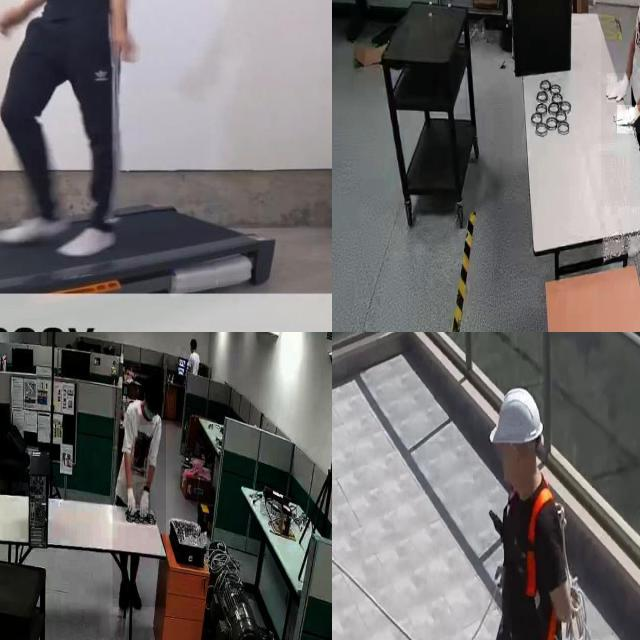Harness: (332, 554, 415, 640), (526, 487, 558, 640)
face_mask: (140, 400, 158, 425)
hand_glove: (607, 73, 631, 103), (616, 104, 640, 134), (121, 484, 138, 524), (137, 482, 151, 527)
hand_noglove: (92, 0, 164, 75)
head_nohelmet: (147, 377, 163, 398), (190, 338, 196, 343)
person: (0, 0, 138, 257), (112, 364, 166, 608), (600, 0, 640, 207)
